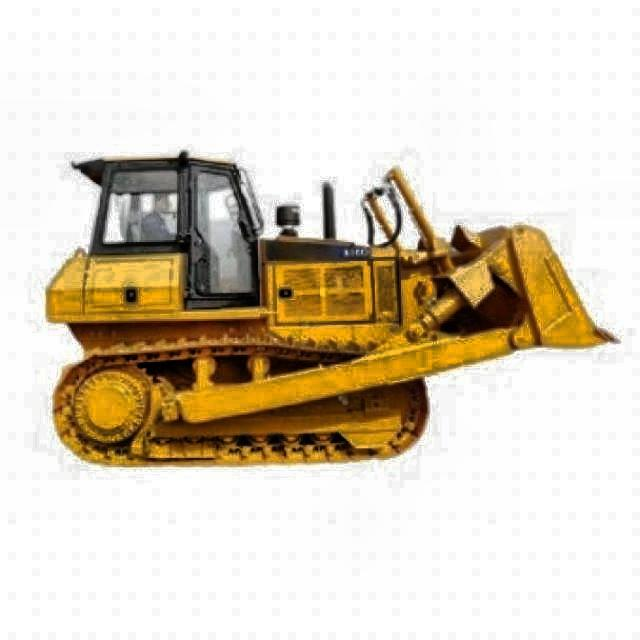bull_dozer/loader/grader: (44, 150, 617, 470)
person: (130, 192, 178, 244)
